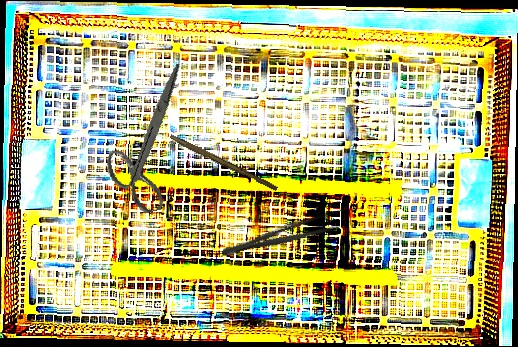Dressing Forceps: (219, 205, 349, 265)
Iris Scissors: (86, 63, 215, 220)
Scalpel Handle: (167, 134, 280, 192)
